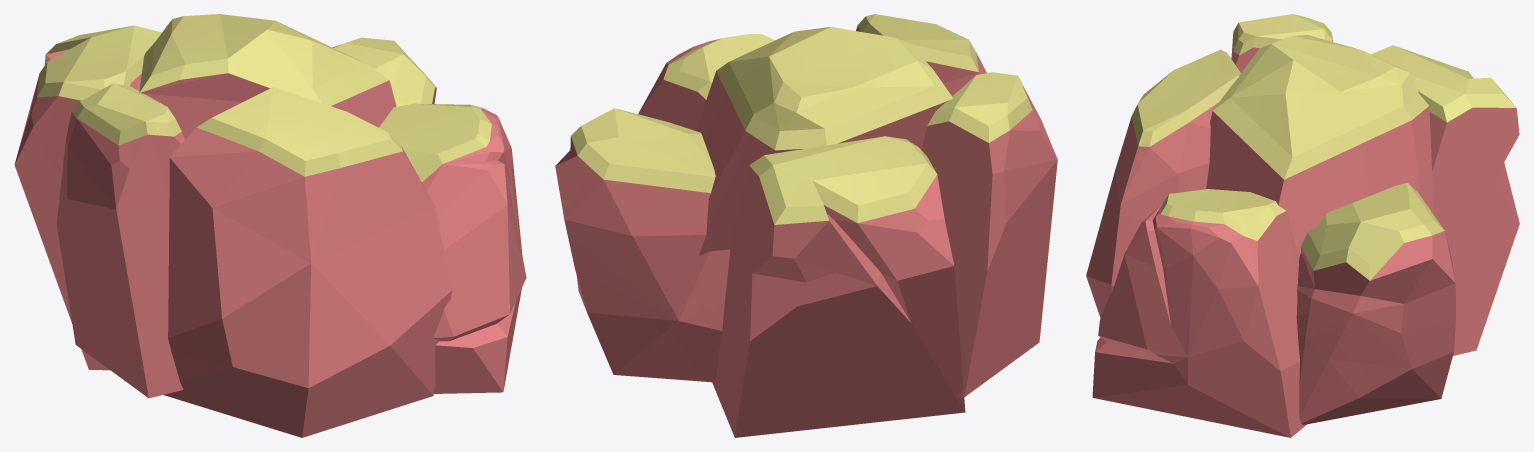
Rendered from moss10.fbx.
3 renders of one model, left to right at view 1: azimuth 30°, elevation 25°; view 2: azimuth 150°, elevation 25°; view 3: azimuth 270°, elevation 25°, orthographic. The views are drawn at different scales.
Visible parts, largest first — view 1: moss10; view 2: moss10; view 3: moss10.
Part boxes in pixels (x1=…): moss10: x1=14, y1=14, x2=526, y2=437; moss10: x1=555, y1=14, x2=1057, y2=437; moss10: x1=1086, y1=14, x2=1519, y2=437.
Bounding box in the file's own units: 506 × 389 × 520.
